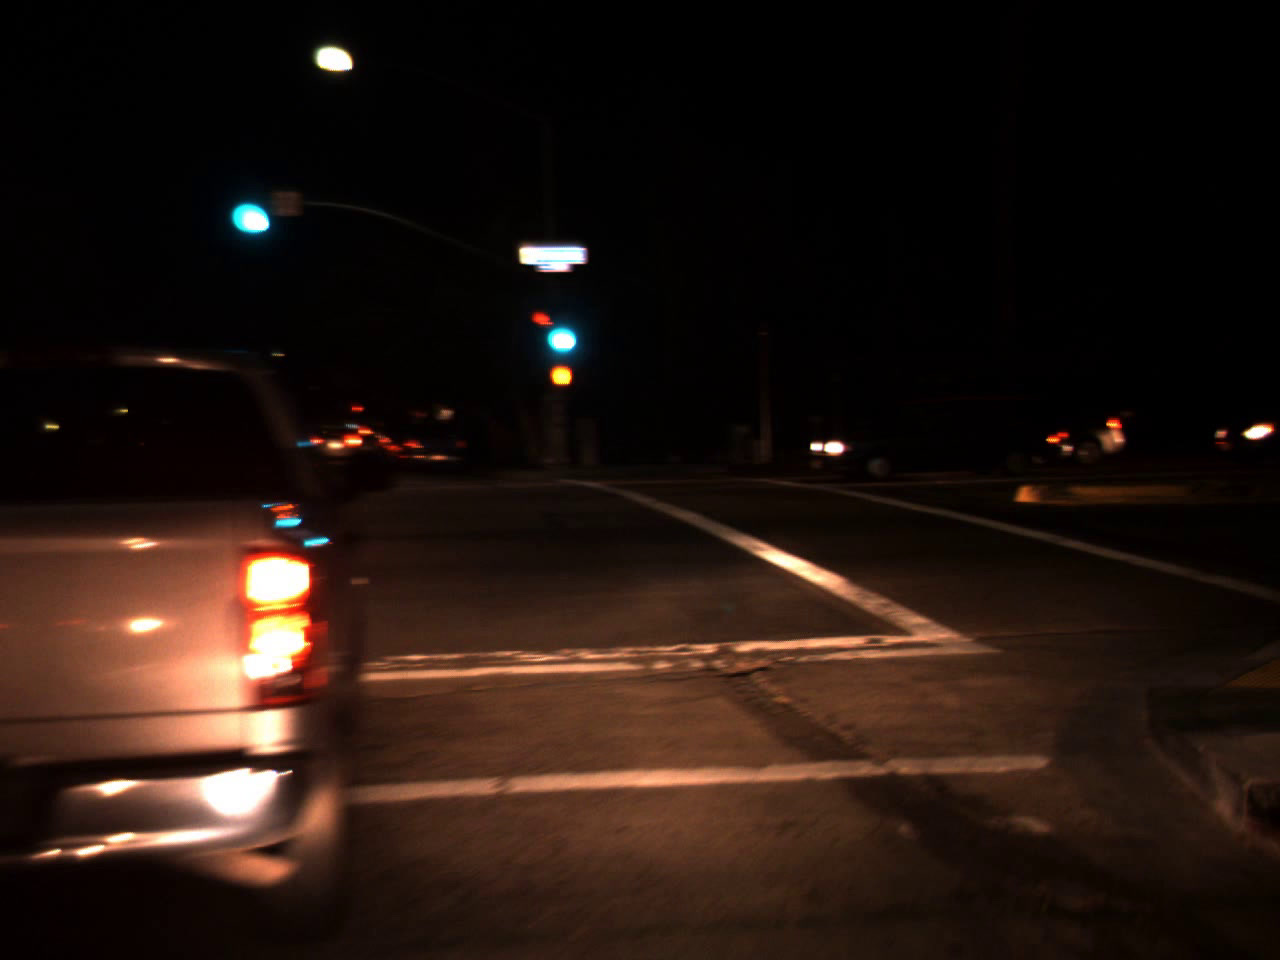go: (223, 167, 275, 245), (534, 294, 584, 363)
